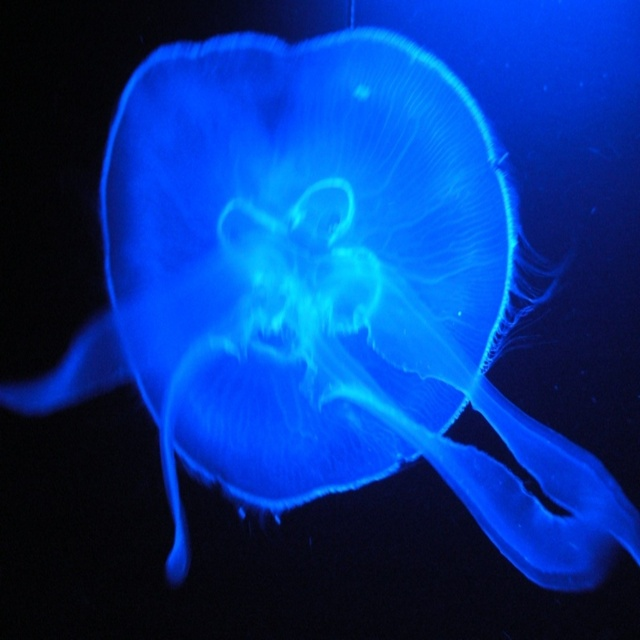Jellyfish: (0, 0, 640, 594)
